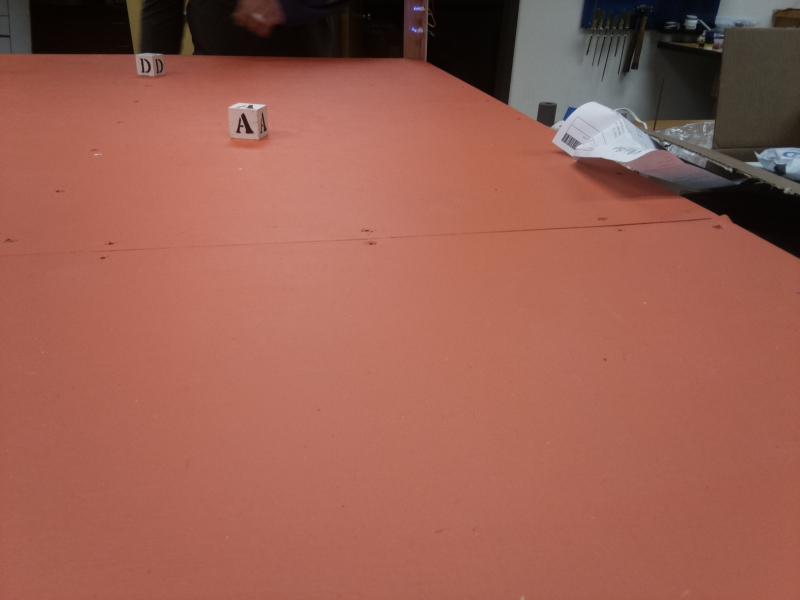blockA: (227, 102, 268, 146)
blockD: (136, 52, 165, 79)
corner: (403, 1, 429, 64)
